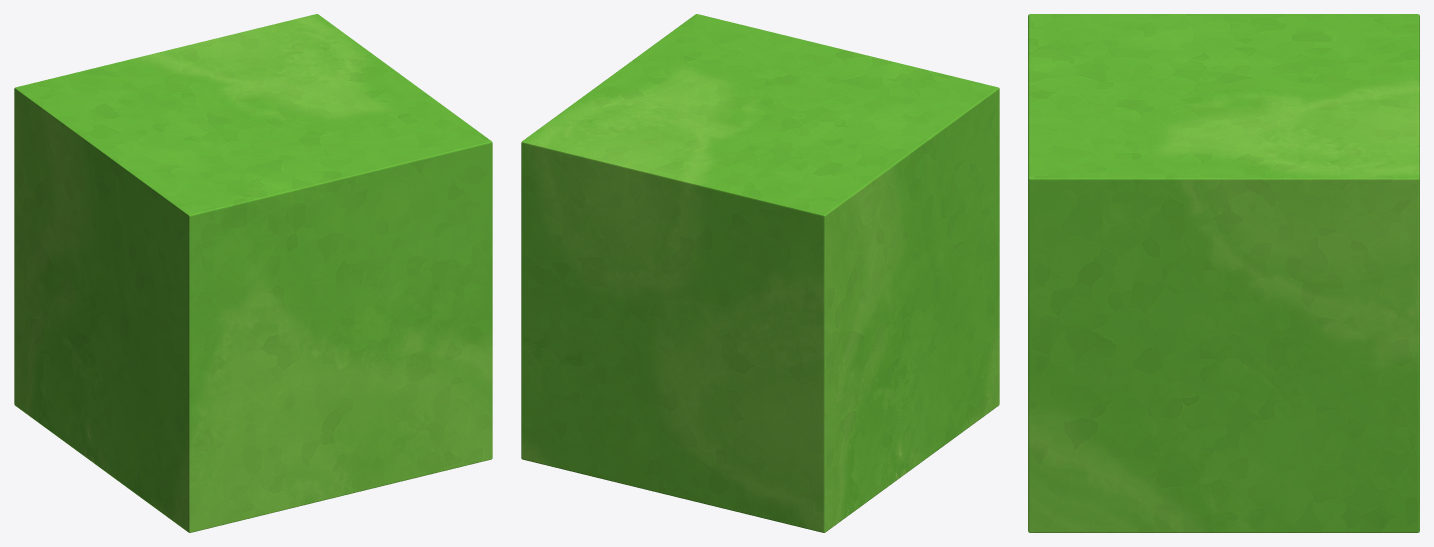
File: cube-music-gem.glb
3 views of the same model, side by side, from view 1: azimuth 30°, elevation 25°; view 2: azimuth 150°, elevation 25°; view 3: azimuth 270°, elevation 25° (orthographic). The views are drawn at different scales.
Visible parts, largest first — view 1: cube-music-gem; view 2: cube-music-gem; view 3: cube-music-gem.
Boxes of the visible parts, x1,y1,x2,y2 form: cube-music-gem: (14,14,492,532); cube-music-gem: (521,14,999,532); cube-music-gem: (1028,14,1419,532).
Size of the model in its own units: 0.3269 by 0.3269 by 0.3269.
1 material, 1 textured.
